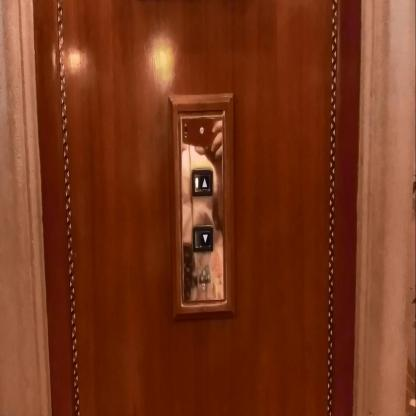down: (192, 225, 212, 250)
up: (192, 169, 211, 193)
